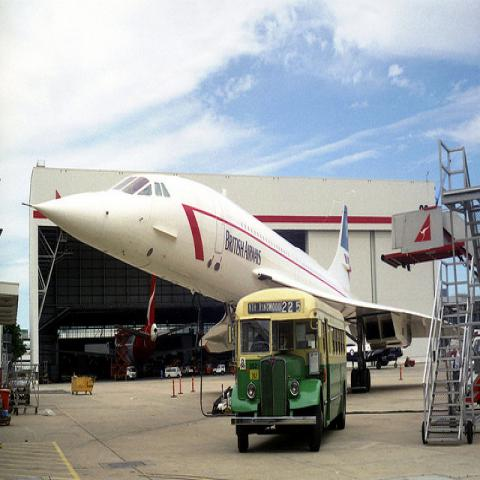bus: (228, 286, 348, 454)
car: (17, 379, 30, 404), (165, 367, 182, 380), (213, 363, 227, 377)
truck: (114, 366, 137, 380)
